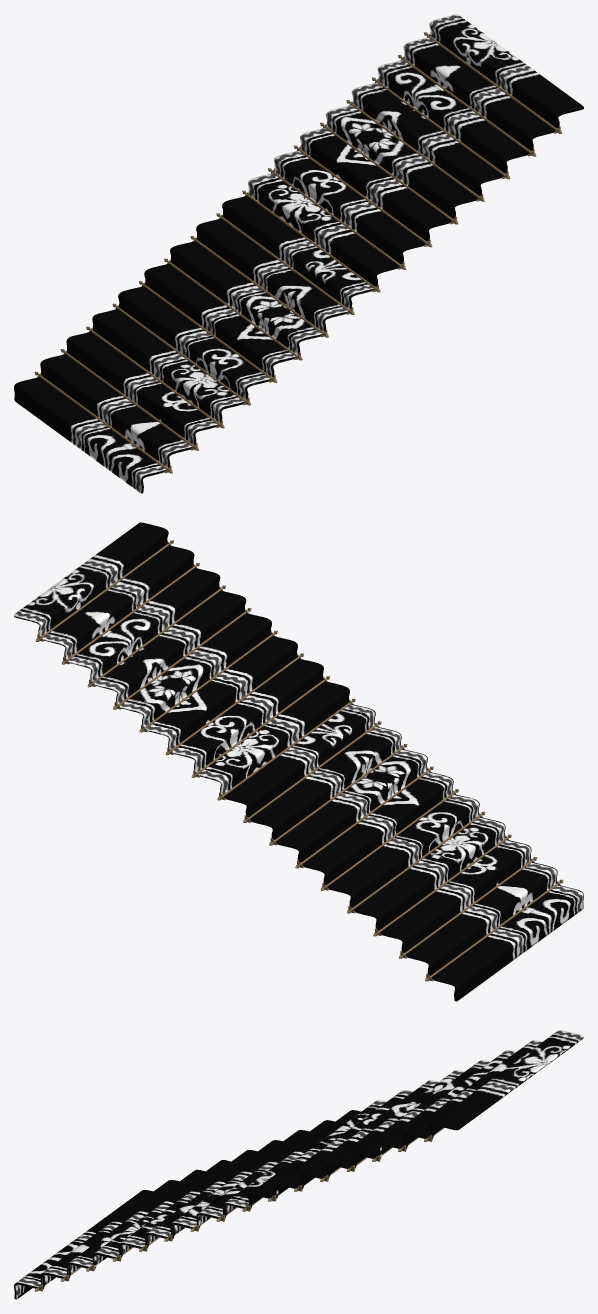
The model's file is SM_CarpetStairs_B.fbx.
3 views of the same model, one above another, from view 1: azimuth 30°, elevation 25°; view 2: azimuth 150°, elevation 25°; view 3: azimuth 330°, elevation 25° (orthographic).
Visible parts, largest first — view 1: SM_CarpetStairs_B_LOD0; view 2: SM_CarpetStairs_B_LOD0; view 3: SM_CarpetStairs_B_LOD0.
Part boxes in pixels (<box>): SM_CarpetStairs_B_LOD0: <box>14,14,583,493</box>; SM_CarpetStairs_B_LOD0: <box>14,522,583,1001</box>; SM_CarpetStairs_B_LOD0: <box>14,1030,583,1299</box>.
Size of the model in its own units: 503 by 271 by 302.
